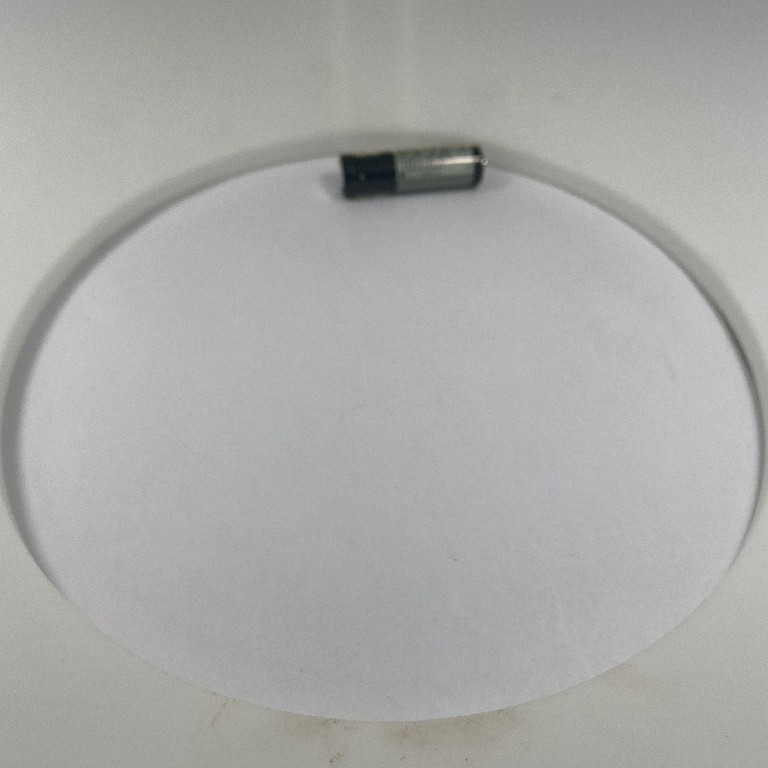charge: (337, 131, 497, 205)
